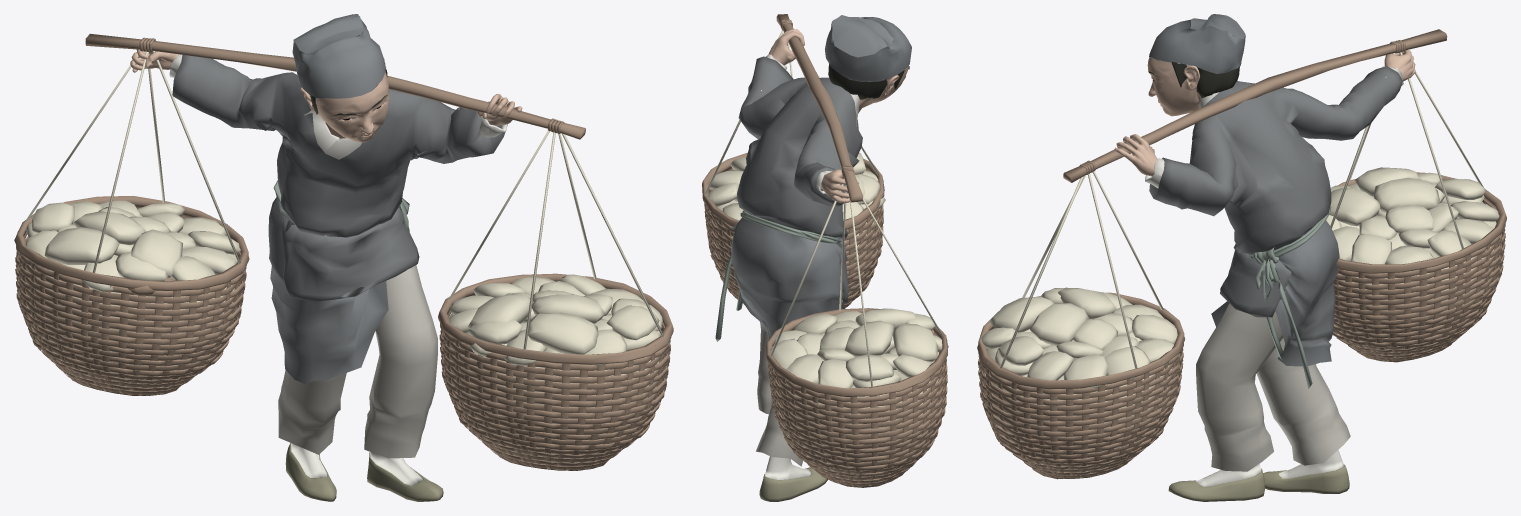
Rendered from MDL_Character_Tiaobiandan_Tiaodanzi01_60DB.fbx.
3 renders of one model, left to right at view 1: azimuth 30°, elevation 25°; view 2: azimuth 150°, elevation 25°; view 3: azimuth 270°, elevation 25°, orthographic. The views are drawn at different scales.
Visible parts, largest first — view 1: 衙役049; view 2: 衙役049; view 3: 衙役049.
Part boxes in pixels (x1,y1,x2,y2): 衙役049: (14,14,673,501); 衙役049: (702,14,948,501); 衙役049: (977,14,1506,501).
Size of the model in its own units: 145 by 159 by 166.
